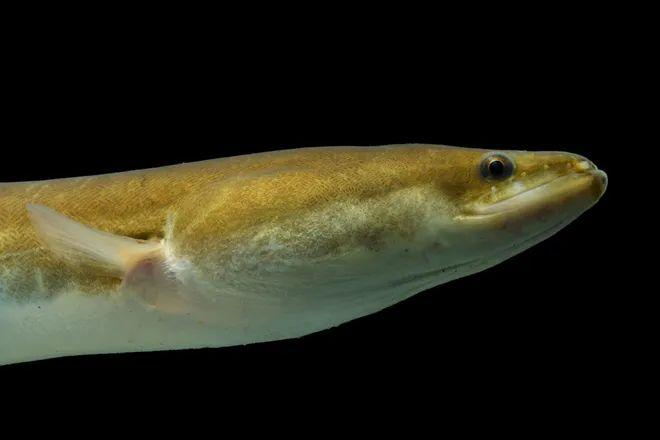Freshwater Eel: (0, 139, 610, 366)
